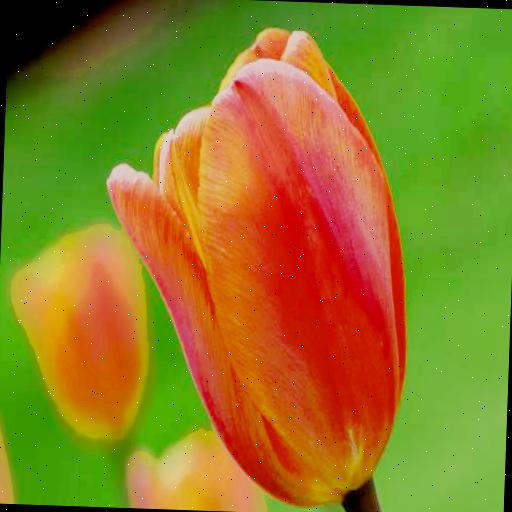tulip: (94, 21, 413, 512)
